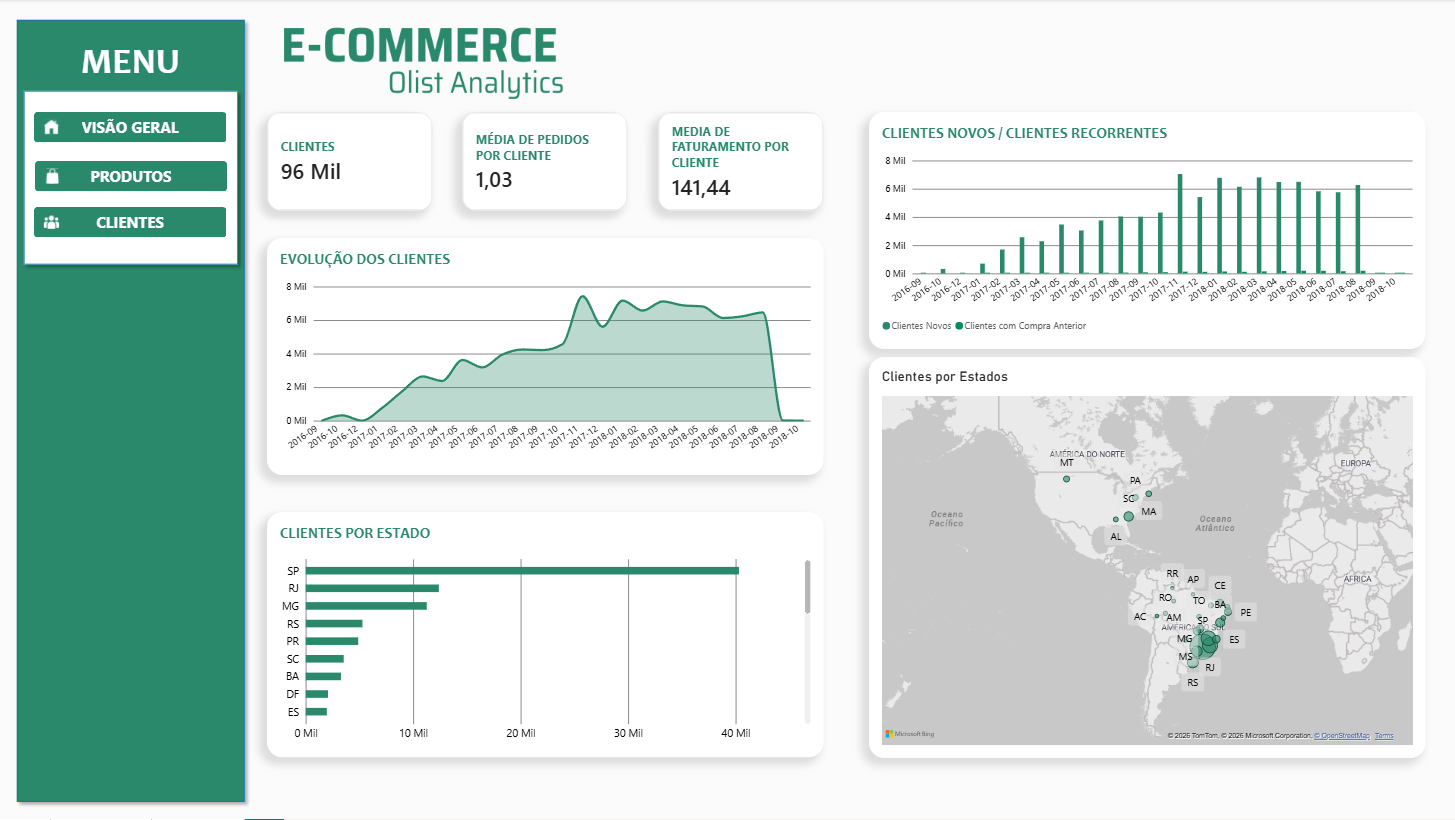

The page's visual inventory and layout, read from the dashboard file:
{"tool":"powerbi","page":{"name":"CLIENTES","canvas":[1920,1080],"ordinal":2},"visuals":[{"type":"cardVisual","fields":{"Data":["MEDIDAS.Clientes Unicos"]},"box":[353.3,148.3,218.3,130],"z":0},{"type":"cardVisual","fields":{"Data":["MEDIDAS.Pedidos_por_cliente"]},"box":[610,148.3,218.3,130],"z":1000},{"type":"cardVisual","fields":{"Data":["MEDIDAS.Faturamento_por_cliente"]},"box":[868.3,148.3,218.3,130],"z":2000},{"type":"lineChart","title":"EVOLUÇÃO DOS CLIENTES","fields":{"Category":["Calendario.Ano_Mes"],"Y":["MEDIDAS.Clientes Únicos por Mês"]},"box":[353.3,315,733.3,311.7],"z":3000},{"type":"clusteredColumnChart","title":"CLIENTES NOVOS / CLIENTES RECORRENTES","fields":{"Category":["Calendario.Ano_Mes"],"Y":["MEDIDAS.Clientes Novos","MEDIDAS.Clientes com Compra Anterior"]},"box":[1145.9,148.2,733.3,311.7],"z":4000},{"type":"shape","box":[14,18,318,1048],"z":5000},{"type":"barChart","title":"CLIENTES POR ESTADO","fields":{"Category":["Clientes.customer_state"],"Y":["MEDIDAS.Clientes Unicos"]},"box":[353.3,676.2,733.1,322.9],"z":6000},{"type":"shape","box":[23.3,112.2,300,246.7],"z":7000},{"type":"map","title":"Clientes por Estados","fields":{"Category":["Clientes.customer_state"],"Size":["MEDIDAS.Clientes Unicos"]},"box":[1145.9,471.1,733.1,528],"z":8000},{"type":"actionButton","box":[46.7,148.3,253.3,40],"z":9000},{"type":"actionButton","title":"PRODUTOS","box":[47,213,253,40],"z":10000},{"type":"actionButton","box":[46.7,273.3,253.3,40],"z":11000},{"type":"image","box":[254,18,678,170],"z":12000},{"type":"textbox","box":[46,52,254,60],"z":13000}]}

Visuals, with their boxes in screenshot pixels (x1, y1, x2, y2), scaled from the page's 1920x1080 canvas onto the 1455x820 screenshot:
cardVisual - MEDIDAS.Clientes Unicos: bbox(268, 113, 433, 211)
cardVisual - MEDIDAS.Pedidos_por_cliente: bbox(462, 113, 628, 211)
cardVisual - MEDIDAS.Faturamento_por_cliente: bbox(658, 113, 823, 211)
"EVOLUÇÃO DOS CLIENTES" lineChart: bbox(268, 239, 823, 476)
"CLIENTES NOVOS / CLIENTES RECORRENTES" clusteredColumnChart: bbox(868, 113, 1424, 349)
shape: bbox(11, 14, 252, 809)
"CLIENTES POR ESTADO" barChart: bbox(268, 513, 823, 759)
shape: bbox(18, 85, 245, 272)
"Clientes por Estados" map: bbox(868, 358, 1424, 759)
actionButton: bbox(35, 113, 227, 143)
"PRODUTOS" actionButton: bbox(36, 162, 227, 192)
actionButton: bbox(35, 208, 227, 238)
image: bbox(192, 14, 706, 143)
textbox: bbox(35, 39, 227, 85)
